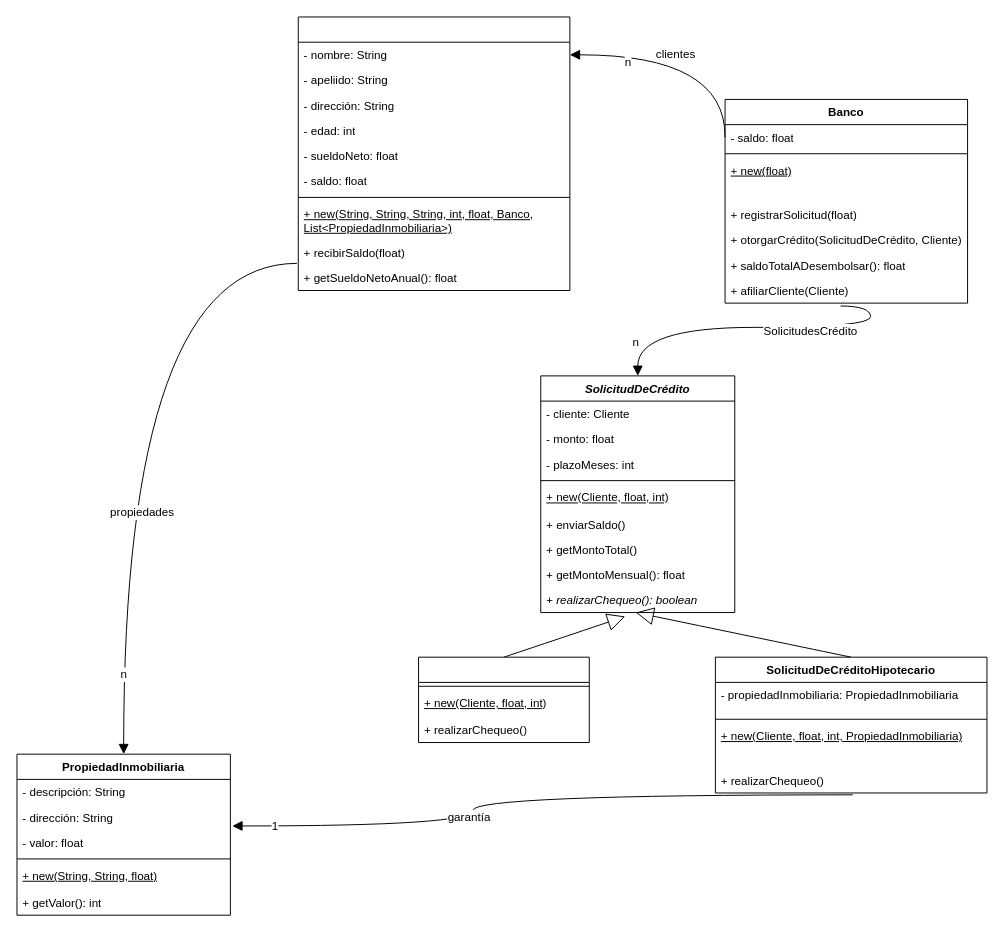
The diagram is 1004 pixels wide and 935 high, and some of its shapes have lost their labels. The box of each missing label's shape, as (x1, y1, x2, y2) in pixels:
Cliente: (297, 16, 570, 291)
SolicitudDeCréditoPersonal: (418, 656, 589, 743)
